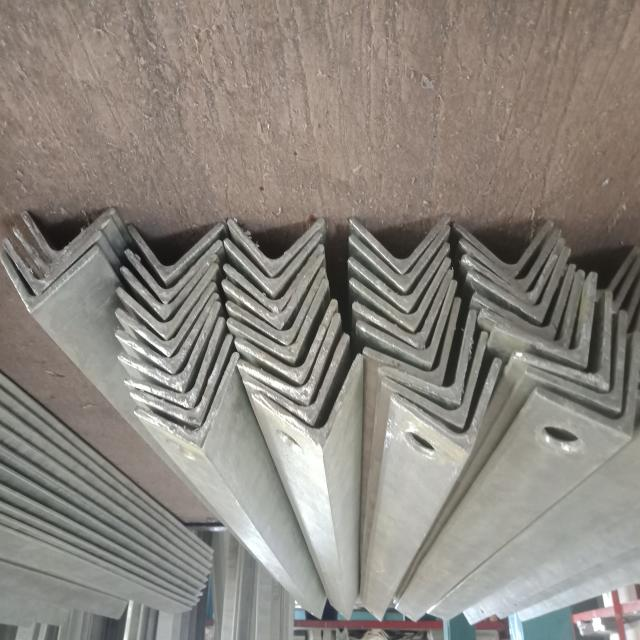metal-angles: (381, 332, 490, 428), (392, 359, 502, 454), (525, 311, 627, 410), (253, 355, 362, 447), (514, 291, 612, 393), (134, 353, 239, 448), (495, 273, 599, 367), (242, 335, 349, 425), (131, 335, 233, 427), (236, 314, 340, 404), (378, 311, 478, 404), (118, 301, 220, 392), (124, 317, 224, 408), (357, 280, 458, 366), (234, 300, 337, 384), (364, 297, 460, 387), (115, 292, 217, 375), (468, 245, 572, 324), (482, 271, 585, 350), (473, 264, 577, 340), (351, 256, 452, 334), (226, 281, 328, 358), (222, 253, 325, 329), (117, 263, 217, 340), (226, 268, 324, 345), (354, 272, 452, 348), (116, 282, 215, 356), (463, 239, 566, 306), (223, 244, 323, 313), (348, 244, 450, 311), (349, 225, 450, 290), (1, 245, 98, 312), (125, 238, 222, 304), (223, 231, 321, 296), (120, 255, 216, 320), (4, 230, 101, 294), (350, 213, 451, 274), (13, 214, 111, 275), (453, 220, 554, 278), (461, 231, 560, 290), (228, 218, 326, 277), (127, 221, 223, 280), (22, 207, 114, 262)
